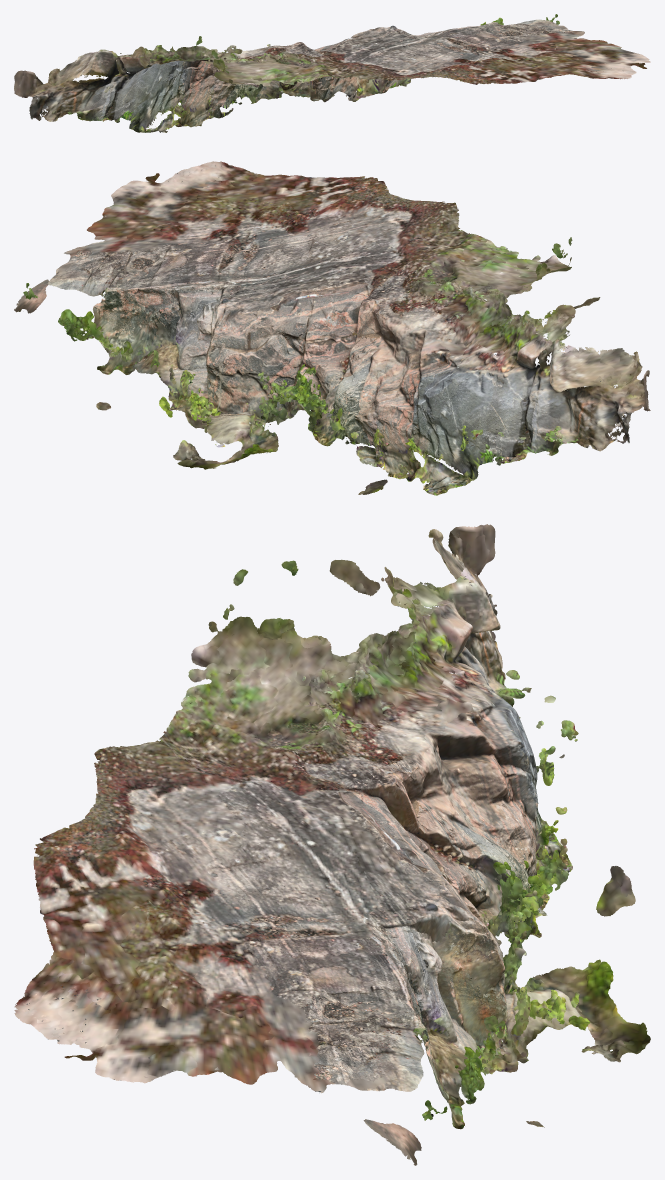
Rendered from metamorphicrocks.glb.
3 views of the same model, one above another, from view 1: azimuth 30°, elevation 25°; view 2: azimuth 150°, elevation 25°; view 3: azimuth 270°, elevation 25° (orthographic). The views are drawn at different scales.
Visible parts, largest first — view 1: Object_2, Object_3; view 2: Object_2, Object_3; view 3: Object_2, Object_3.
Boxes of the visible parts, x1,y1,x2,y2 form: Object_2: (18,15,646,132); Object_3: (14,14,650,132); Object_2: (14,162,648,495); Object_3: (21,161,650,494); Object_2: (15,529,649,1165); Object_3: (14,524,650,1149).
Size of the model in its own units: 8.92 by 2.66 by 4.94.
1 material, 1 textured.
